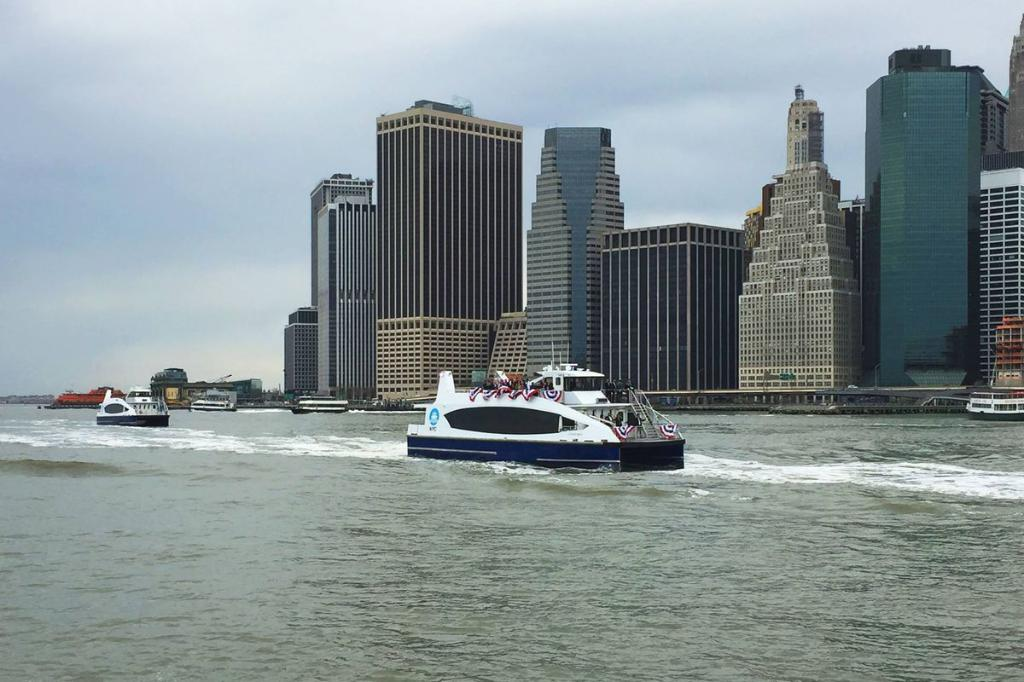PassengerShip: (397, 359, 691, 473), (92, 383, 174, 432)
